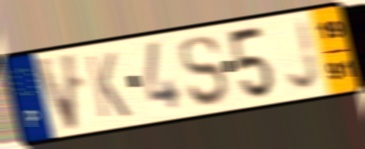4: (145, 39, 183, 117)
5: (226, 22, 278, 102)
J: (284, 17, 323, 92)
K: (83, 50, 133, 121)
S: (178, 33, 230, 110)
V: (31, 50, 82, 135)
